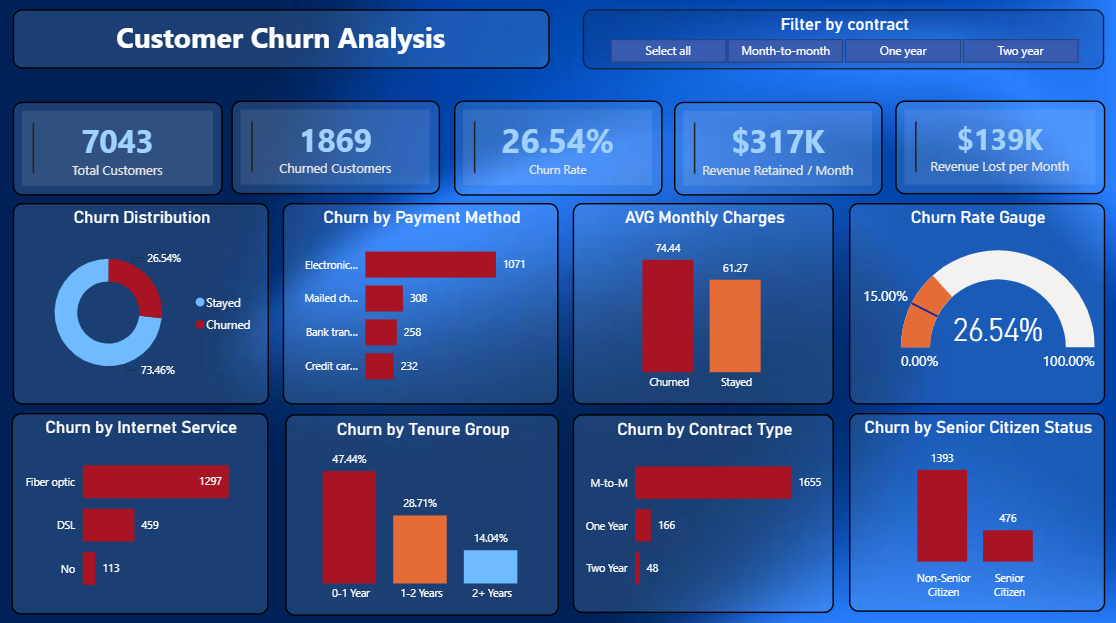

The dashboard page shown, as its layout file describes it:
{"tool":"powerbi","page":{"name":"CustomerChurn","canvas":[1280,720],"ordinal":0},"visuals":[{"type":"donutChart","title":"Churn Distribution","fields":{"Y":["CountNonNull(customer_churned_cleaned.customerID)"],"Category":["customer_churned_cleaned.Churn Status"]},"box":[15,233.8,292.5,230],"z":0},{"type":"clusteredBarChart","title":"Churn by Contract Type","fields":{"Y":["CountNonNull(customer_churned_cleaned.Churn Status)"],"Category":["customer_churned_cleaned.Contract updated"]},"box":[656.2,476.2,298.8,227.5],"z":1000},{"type":"clusteredBarChart","title":"Churn by Internet Service","fields":{"Y":["CountNonNull(customer_churned_cleaned.Churn Status)"],"Category":["customer_churned_cleaned.InternetService"]},"box":[13.8,473.8,293.8,230],"z":2000},{"type":"clusteredBarChart","title":"Churn by Payment Method","fields":{"Y":["CountNonNull(customer_churned_cleaned.Churn Status)"],"Category":["customer_churned_cleaned.PaymentMethod"]},"box":[325,233.8,315,230],"z":3000},{"type":"clusteredColumnChart","title":"Churn by Tenure Group","fields":{"Category":["customer_churned_cleaned.Tenure_Group"],"Y":["customer_churned_cleaned.Churn Rate"]},"box":[327.5,476.2,312.5,230],"z":4000},{"type":"clusteredColumnChart","title":"AVG Monthly Charges","fields":{"Category":["customer_churned_cleaned.Churn Status"],"Y":["Avg(customer_churned_cleaned.MonthlyCharges)"]},"box":[656.2,233.8,298.8,230],"z":5000},{"type":"gauge","title":"Churn Rate Gauge","fields":{"Y":["customer_churned_cleaned.Churn Rate"],"TargetValue":["customer_churned_cleaned.Churn Target"]},"box":[971.2,233.8,292.5,230],"z":6000},{"type":"cardVisual","fields":{"Data":["customer_churned_cleaned.Churned Customers"]},"box":[266.2,117.5,238.8,107.5],"z":7000},{"type":"cardVisual","fields":{"Data":["customer_churned_cleaned.Churn Rate"]},"box":[520,117.5,238.8,108.8],"z":8000},{"type":"cardVisual","fields":{"Data":["customer_churned_cleaned.Total Customers"]},"box":[15,118.8,240,107.5],"z":9000},{"type":"cardVisual","fields":{"Data":["customer_churned_cleaned.Revenue Lost per Month"]},"box":[1023.8,117.5,240,107.5],"z":10000},{"type":"columnChart","title":"Churn by Senior Citizen Status","fields":{"Category":["customer_churned_cleaned.Senior Citizen Group"],"Y":["CountNonNull(customer_churned_cleaned.customerID)"]},"box":[971.2,473.8,292.5,227.5],"z":11000},{"type":"slicer","title":"Filter by contract","fields":{"Values":["customer_churned_cleaned.Contract"]},"box":[667.2,13.3,596,68.8],"z":12000},{"type":"textbox","box":[15,13.3,613.3,68.3],"z":13000},{"type":"cardVisual","fields":{"Data":["customer_churned_cleaned.Revenue Retained per Month"]},"box":[771.2,118.8,238.8,107.5],"z":14000}]}

Visuals, with their boxes in screenshot pixels (x1, y1, x2, y2), scaled from the page's 1280x720 canvas onto the 1116x623 screenshot:
"Churn Distribution" donutChart: {"x1": 13, "y1": 202, "x2": 268, "y2": 401}
"Churn by Contract Type" clusteredBarChart: {"x1": 572, "y1": 412, "x2": 833, "y2": 609}
"Churn by Internet Service" clusteredBarChart: {"x1": 12, "y1": 410, "x2": 268, "y2": 609}
"Churn by Payment Method" clusteredBarChart: {"x1": 283, "y1": 202, "x2": 558, "y2": 401}
"Churn by Tenure Group" clusteredColumnChart: {"x1": 286, "y1": 412, "x2": 558, "y2": 611}
"AVG Monthly Charges" clusteredColumnChart: {"x1": 572, "y1": 202, "x2": 833, "y2": 401}
"Churn Rate Gauge" gauge: {"x1": 847, "y1": 202, "x2": 1102, "y2": 401}
cardVisual - customer_churned_cleaned.Churned Customers: {"x1": 232, "y1": 102, "x2": 440, "y2": 195}
cardVisual - customer_churned_cleaned.Churn Rate: {"x1": 453, "y1": 102, "x2": 662, "y2": 196}
cardVisual - customer_churned_cleaned.Total Customers: {"x1": 13, "y1": 103, "x2": 222, "y2": 196}
cardVisual - customer_churned_cleaned.Revenue Lost per Month: {"x1": 893, "y1": 102, "x2": 1102, "y2": 195}
"Churn by Senior Citizen Status" columnChart: {"x1": 847, "y1": 410, "x2": 1102, "y2": 607}
"Filter by contract" slicer: {"x1": 582, "y1": 12, "x2": 1101, "y2": 71}
textbox: {"x1": 13, "y1": 12, "x2": 548, "y2": 71}
cardVisual - customer_churned_cleaned.Revenue Retained per Month: {"x1": 672, "y1": 103, "x2": 881, "y2": 196}
